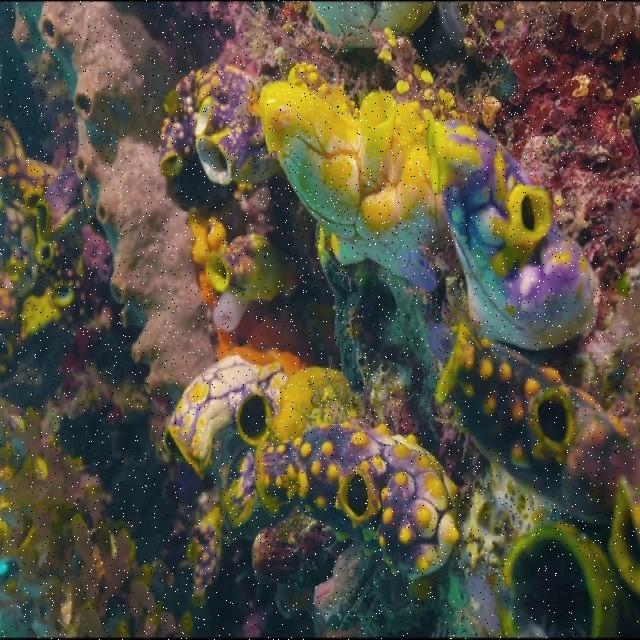reefs: (37, 0, 639, 639)
